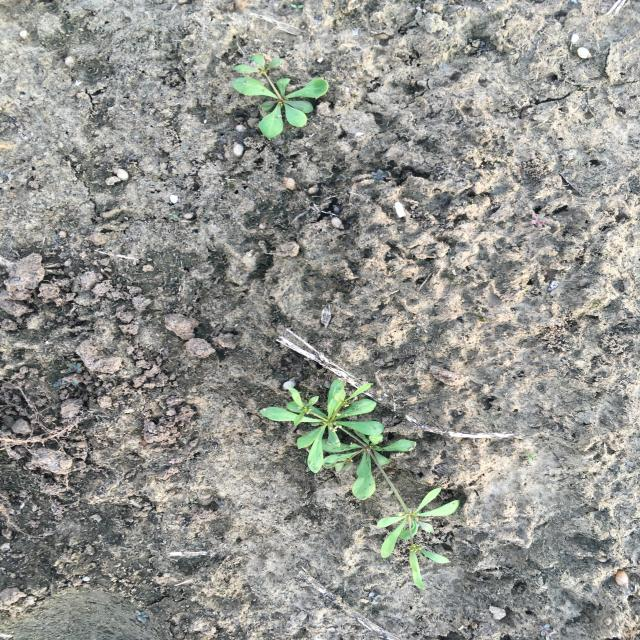Carpetweed: (257, 377, 462, 591), (231, 53, 330, 140)
